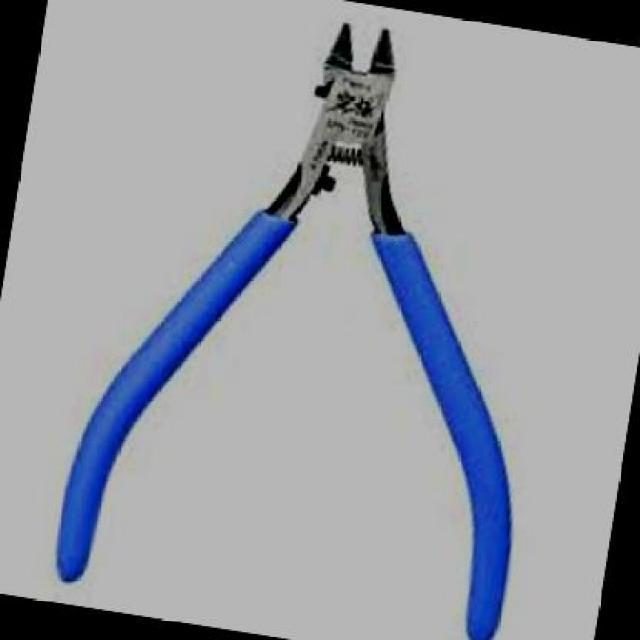pliers: (8, 0, 634, 638)
